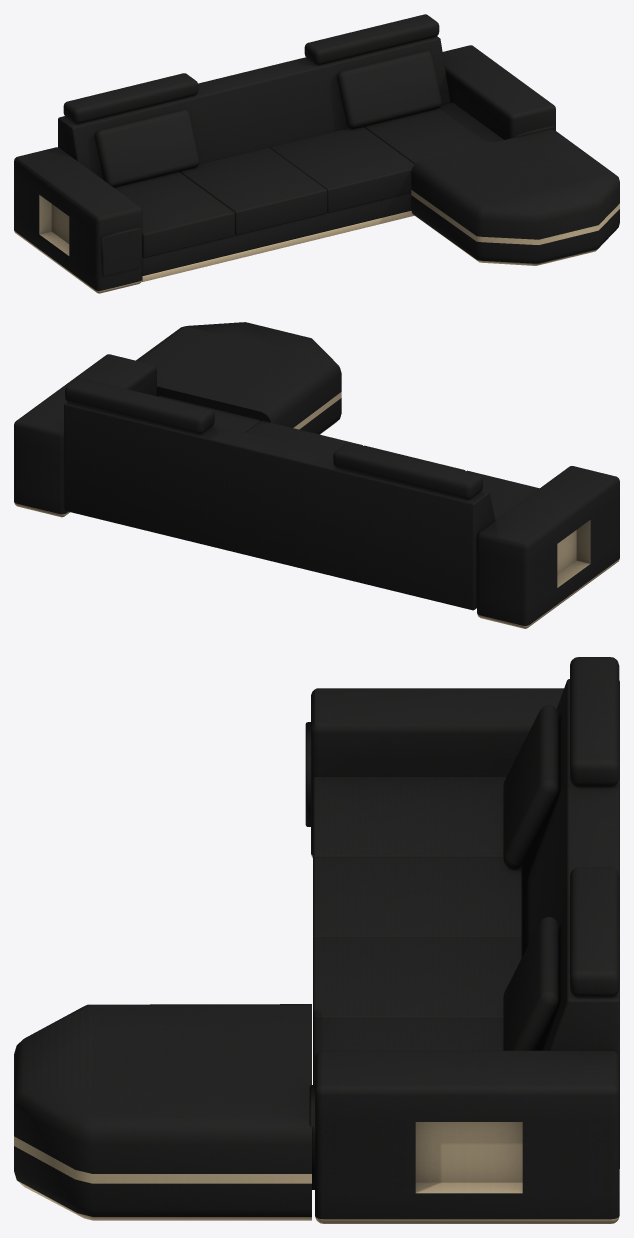
The model's file is couch.glb.
3 renders of one model, top to bottom at view 1: azimuth 30°, elevation 25°; view 2: azimuth 150°, elevation 25°; view 3: azimuth 270°, elevation 25°, orthographic. The views are drawn at different scales.
Visible parts, largest first — view 1: Object_3, Object_2; view 2: Object_2, Object_3; view 3: Object_3, Object_2.
Boxes of the visible parts, x1,y1,x2,y2 form: Object_3: (14,50,619,293); Object_2: (14,14,555,290); Object_2: (14,354,619,625); Object_3: (14,322,619,628); Object_3: (14,705,619,1223); Object_2: (305,657,619,1219).
Bounding box in the file's own units: 826 × 205 × 525.
2 materials, 2 textured.
